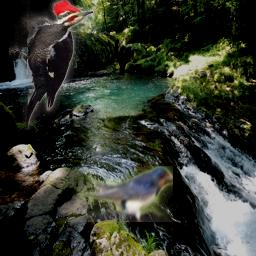Swallow: (68, 166, 173, 222)
Woodpecker: (9, 0, 93, 130)
